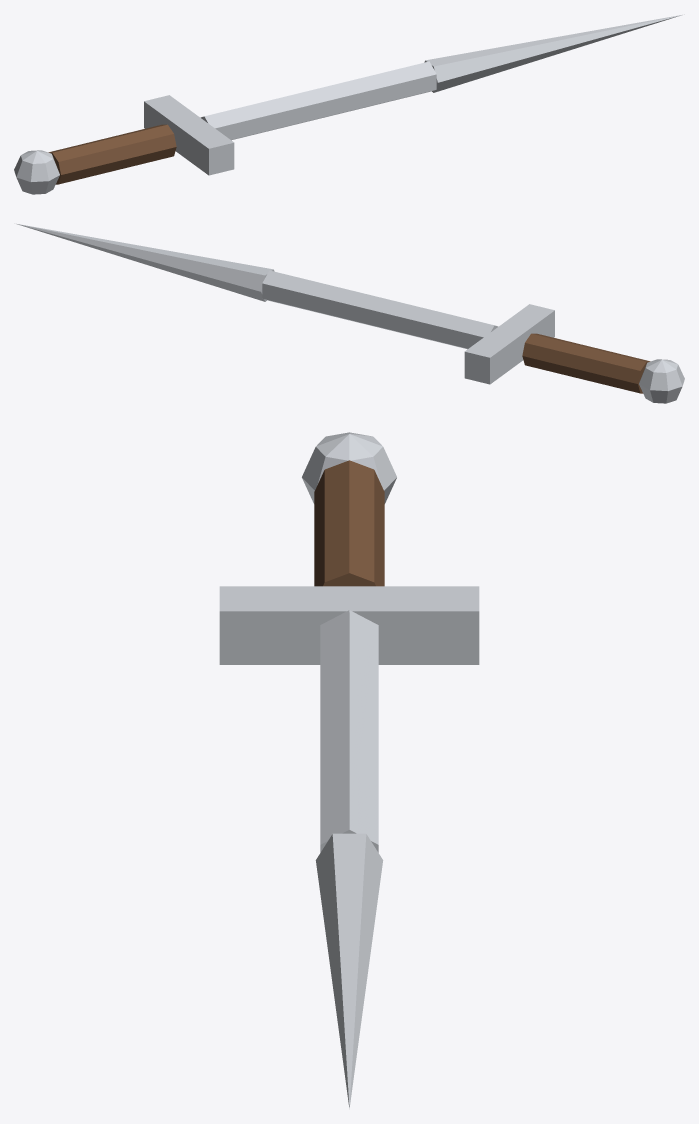
The model's file is sword.fbx.
The picture shows the model from 3 angles, top to bottom: view 1: azimuth 30°, elevation 25°; view 2: azimuth 150°, elevation 25°; view 3: azimuth 270°, elevation 25°; orthographic projection. The views are drawn at different scales.
Parts seen in each view (by area): view 1: Simple_Greek_Sword_Separate; view 2: Simple_Greek_Sword_Separate; view 3: Simple_Greek_Sword_Separate.
Part boxes in pixels (x1,y1,x2,y2): Simple_Greek_Sword_Separate: [14, 14, 682, 194]; Simple_Greek_Sword_Separate: [16, 223, 684, 403]; Simple_Greek_Sword_Separate: [219, 432, 479, 1109].
Bounding box in the file's own units: 110 × 6.8 × 18.5.
